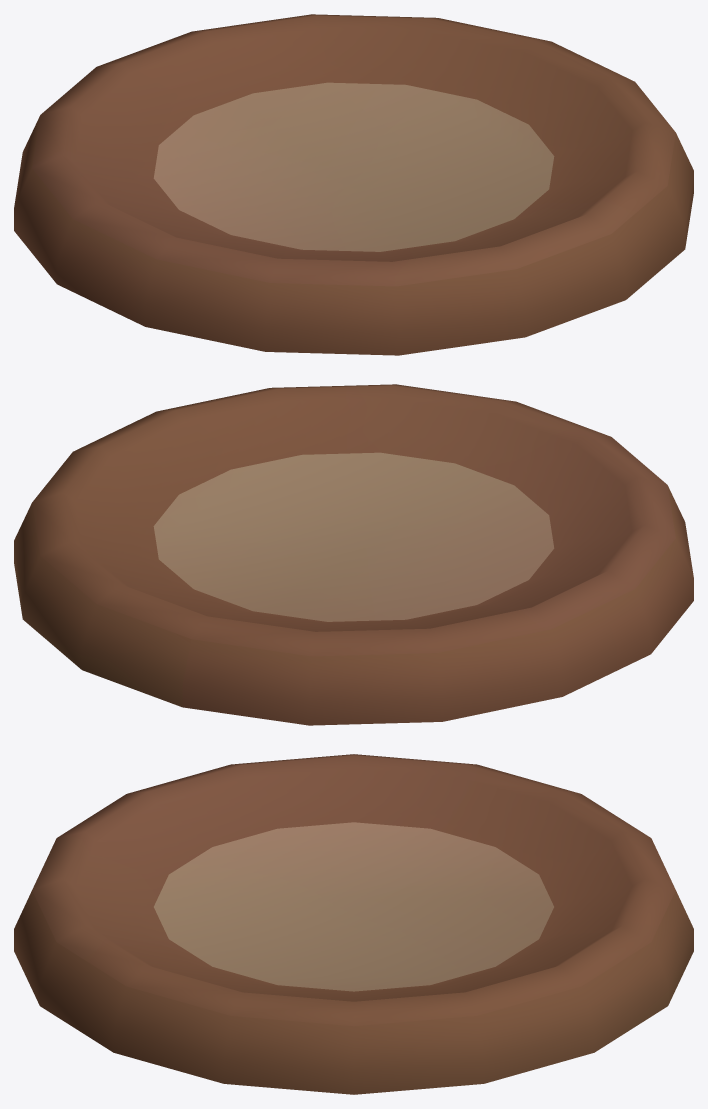
File: DogBedBrown.glb
3 views of the same model, one above another, from view 1: azimuth 30°, elevation 25°; view 2: azimuth 150°, elevation 25°; view 3: azimuth 270°, elevation 25° (orthographic).
Parts seen in each view (by area): view 1: DogBedBrown; view 2: DogBedBrown; view 3: DogBedBrown.
Boxes of the visible parts, x1,y1,x2,y2 form: DogBedBrown: (14,14,693,355); DogBedBrown: (14,384,693,725); DogBedBrown: (14,754,693,1094).
Size of the model in its own units: 2 by 0.2348 by 2.
Materials: 1 (1 with a texture image).
